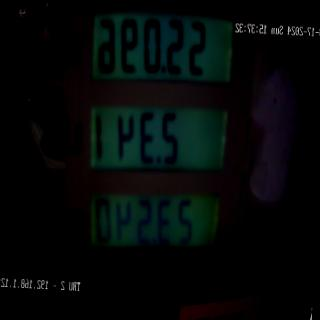screen: (74, 0, 240, 292)
